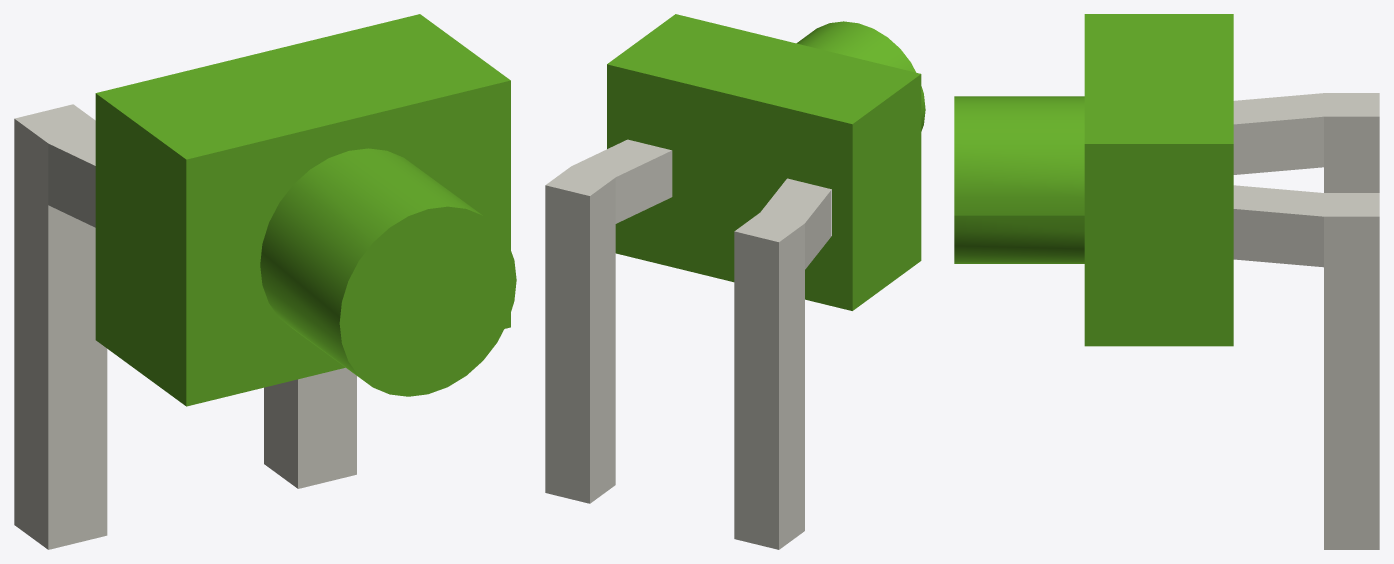
The model's file is kc-led_d1.8mm_w1.8mm_h2.4mm_horizontal_o1.27mm_z1.6mm.glb.
The picture shows the model from 3 angles, left to right: view 1: azimuth 30°, elevation 25°; view 2: azimuth 150°, elevation 25°; view 3: azimuth 270°, elevation 25°; orthographic projection. The views are drawn at different scales.
Visible parts, largest first — view 1: 0.16666666666666666_0.4166666666666667_0_0, 0.6666666666666666_0.6666666666666666_0.5833333333333334_0.8; view 2: 0.16666666666666666_0.4166666666666667_0_0, 0.6666666666666666_0.6666666666666666_0.5833333333333334_0.8; view 3: 0.16666666666666666_0.4166666666666667_0_0, 0.6666666666666666_0.6666666666666666_0.5833333333333334_0.8.
Part boxes in pixels (x1,y1,x2,y2): 0.16666666666666666_0.4166666666666667_0_0: (95, 14, 516, 406); 0.6666666666666666_0.6666666666666666_0.5833333333333334_0.8: (14, 104, 356, 549); 0.16666666666666666_0.4166666666666667_0_0: (607, 14, 925, 310); 0.6666666666666666_0.6666666666666666_0.5833333333333334_0.8: (545, 139, 831, 549); 0.16666666666666666_0.4166666666666667_0_0: (954, 14, 1233, 346); 0.6666666666666666_0.6666666666666666_0.5833333333333334_0.8: (1233, 93, 1379, 549).
Bounding box in the file's own units: 0.33 × 0.485 × 0.457.
